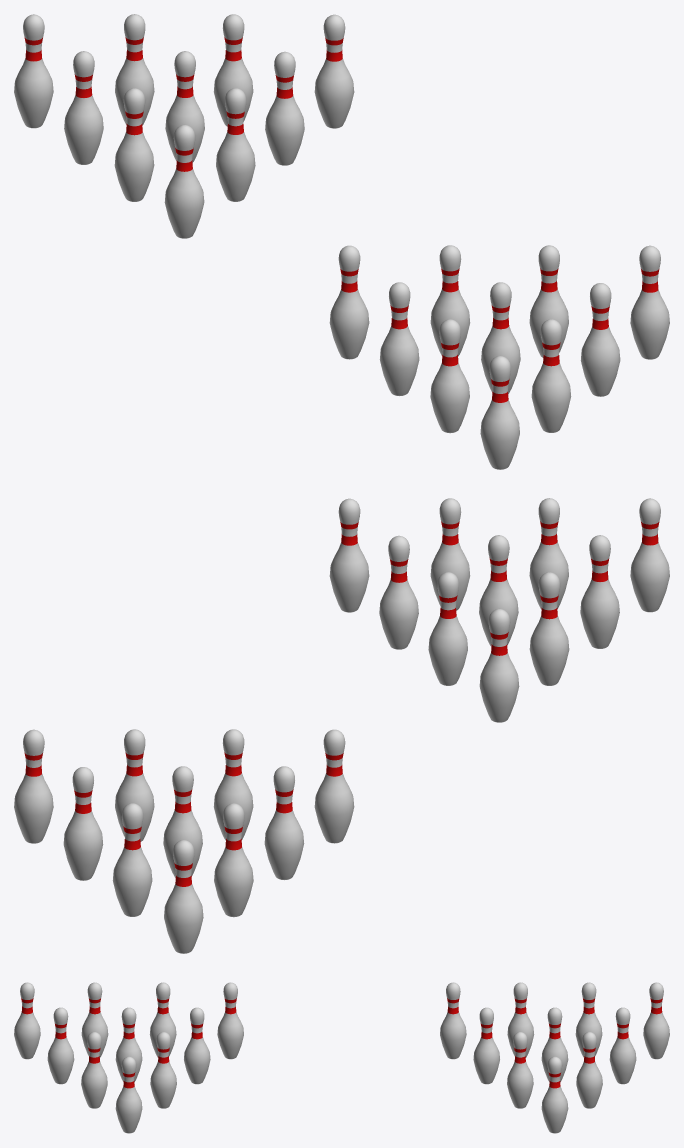
The model's file is pins.fbx.
3 renders of one model, top to bottom at view 1: azimuth 30°, elevation 25°; view 2: azimuth 150°, elevation 25°; view 3: azimuth 270°, elevation 25°, orthographic. The views are drawn at different scales.
Parts seen in each view (by area): view 1: LaneGRP1_Pins1; view 2: LaneGRP1_Pins1; view 3: LaneGRP1_Pins1.
Boxes of the visible parts, bbox=[...] form: LaneGRP1_Pins1: bbox=[14, 14, 669, 469]; LaneGRP1_Pins1: bbox=[14, 498, 669, 953]; LaneGRP1_Pins1: bbox=[14, 982, 669, 1133].
Size of the model in its own units: 94.28 by 38.32 by 306.
